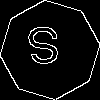S: (25, 25, 63, 75)
